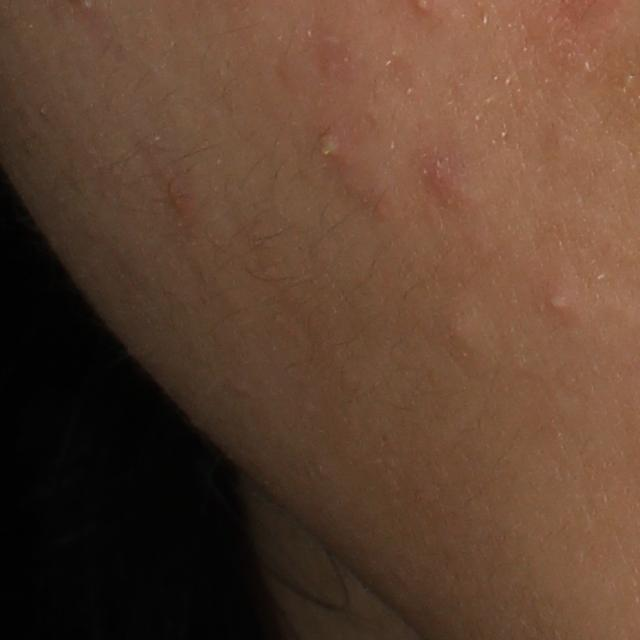pustule: (544, 288, 573, 318)
